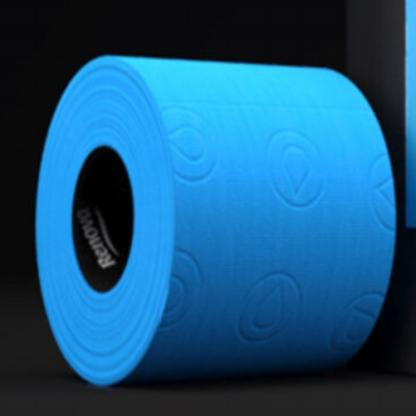tissue: (31, 45, 407, 411)
